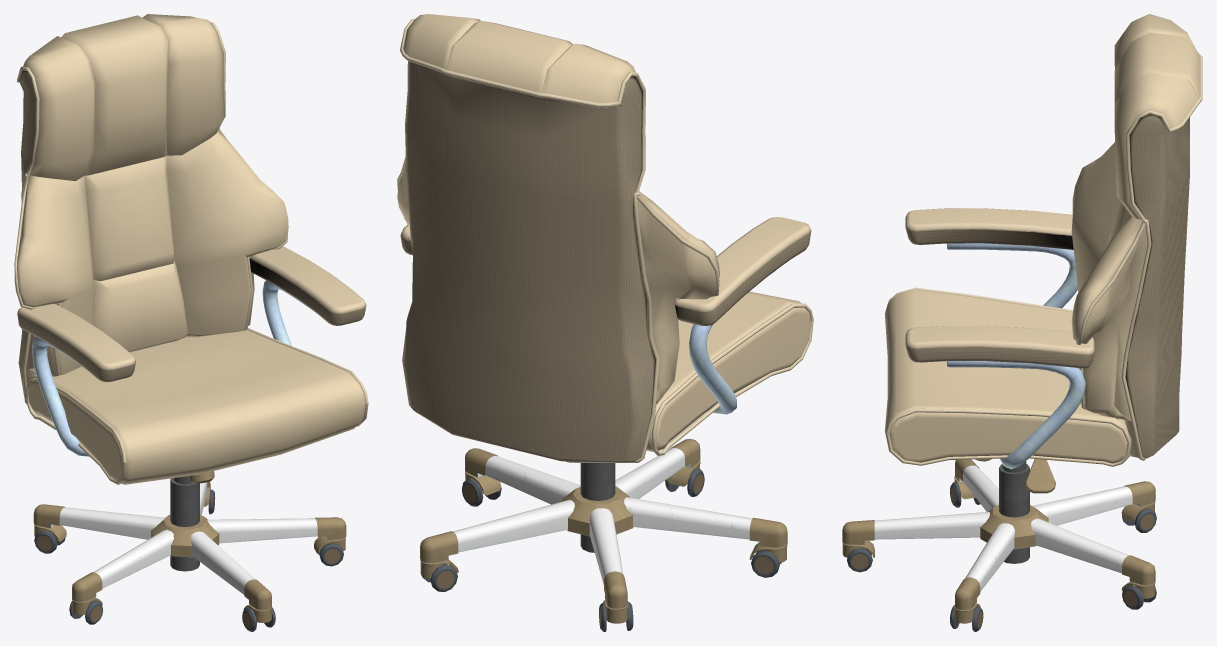
File: office-chair.glb
3 renders of one model, left to right at view 1: azimuth 30°, elevation 25°; view 2: azimuth 150°, elevation 25°; view 3: azimuth 270°, elevation 25°, orthographic. The views are drawn at different scales.
Parts seen in each view (by area): view 1: up (×9), chair_woo_low (×10), sweep5; view 2: up (×7), chair_woo_low (×12), sweep5; view 3: up (×9), chair_woo_low (×12).
Boxes of the visible parts, left/top/right/bottom form: up (×9): left=14, top=14, right=368, bottom=484; chair_woo_low (×10): left=33, top=476, right=346, bottom=631; sweep5: left=14, top=66, right=62, bottom=376; up (×7): left=397, top=14, right=813, bottom=462; chair_woo_low (×12): left=420, top=439, right=787, bottom=631; sweep5: left=492, top=72, right=719, bottom=300; up (×9): left=885, top=14, right=1202, bottom=469; chair_woo_low (×12): left=842, top=459, right=1156, bottom=631.
Size of the model in its own units: 67.39 by 117 by 73.96.
2 materials, 2 textured.
